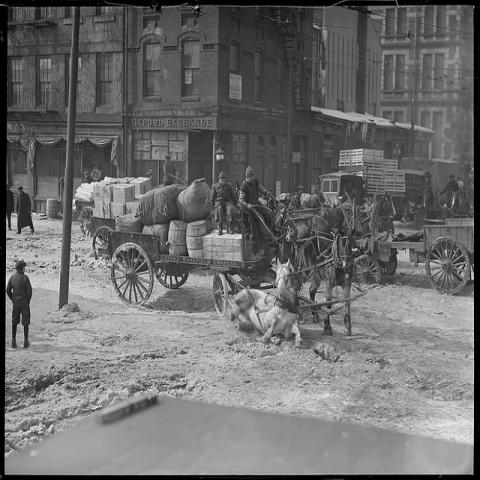truck: (322, 147, 407, 205)
